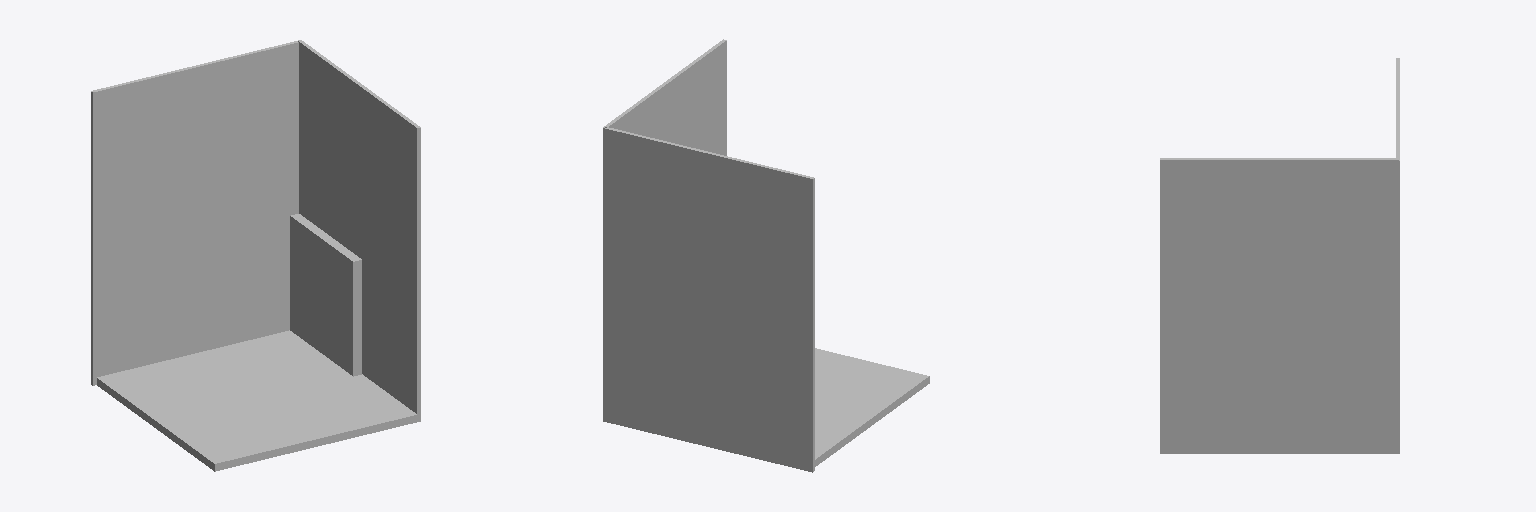
File: box-corner-3.obj
3 renders of one model, left to right at view 1: azimuth 30°, elevation 25°; view 2: azimuth 150°, elevation 25°; view 3: azimuth 270°, elevation 25°, orthographic.
Visible parts, largest first — view 1: Object.2, Object.1, Object.3, Object.4; view 2: Object.2, Object.1, Object.3; view 3: Object.1, Object.2.
Part boxes in pixels (bbox=[...]): Object.2: bbox=[91, 40, 299, 385]; Object.1: bbox=[298, 40, 420, 421]; Object.3: bbox=[97, 330, 416, 471]; Object.4: bbox=[290, 214, 361, 376]; Object.2: bbox=[603, 127, 814, 472]; Object.1: bbox=[604, 39, 726, 155]; Object.3: bbox=[815, 348, 929, 466]; Object.1: bbox=[1160, 158, 1398, 453]; Object.2: bbox=[1396, 58, 1399, 453].
Bounding box in the file's own units: 1150 × 1539 × 1142.